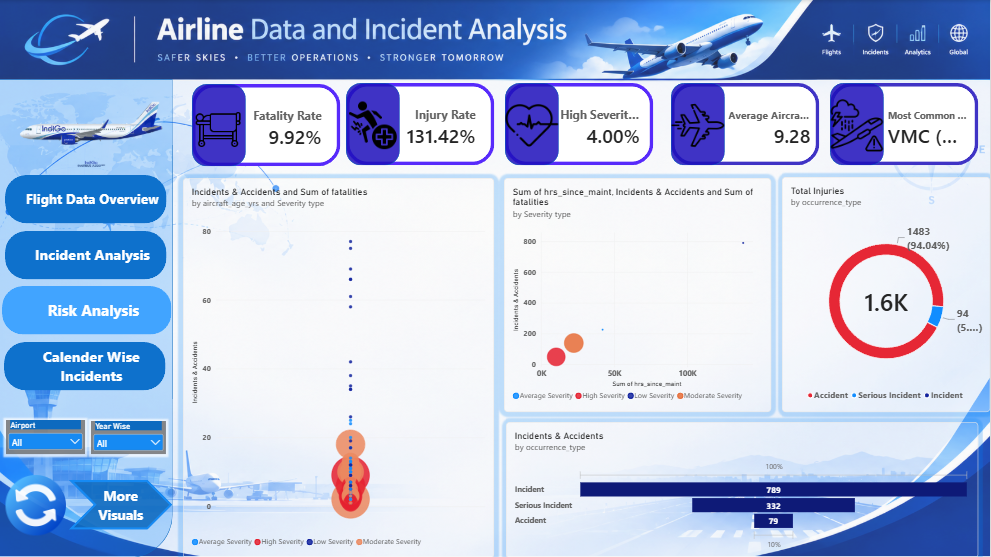

The page's visual inventory and layout, read from the dashboard file:
{"tool":"powerbi","page":{"name":"Page 4","canvas":[1920,1080],"ordinal":2},"visuals":[{"type":"cardVisual","fields":{"Data":["dgca_aviation_incidents_2010_2023.Injury Rate"]},"box":[673.6,160.9,287,159.4],"z":0,"group":"g4"},{"type":"cardVisual","fields":{"Data":["dgca_aviation_incidents_2010_2023.High Severity Rate"]},"box":[982.2,161.6,287,159.4],"z":0,"group":"g3"},{"type":"cardVisual","fields":{"Data":["dgca_aviation_incidents_2010_2023.Average Aircraft Age"]},"box":[1303.2,161.6,287,159.4],"z":0,"group":"g2"},{"type":"cardVisual","fields":{"Data":["dgca_aviation_incidents_2010_2023.Most Common Weather"]},"box":[1609.4,161.6,287,159.4],"z":0,"group":"g1"},{"type":"cardVisual","fields":{"Data":["dgca_aviation_incidents_2010_2023.Fatality Rate"]},"box":[375.1,163,287,159.4],"z":0,"group":"g5"},{"type":"shape","box":[673.6,160.9,104.2,159.4],"z":1000,"group":"g4"},{"type":"shape","box":[982.2,161.6,104.2,159.4],"z":1000,"group":"g3"},{"type":"shape","box":[1303.2,161.6,104.2,159.4],"z":1000,"group":"g2"},{"type":"shape","box":[1609.4,161.6,104.2,159.4],"z":1000,"group":"g1"},{"type":"shape","box":[375.1,163,104.2,159.4],"z":1000,"group":"g5"},{"type":"shape","box":[0,153.1,338,926.9],"z":2000},{"type":"group","id":"g1","title":"Group 1","box":[1609.4,161.6,284.9,159.4],"z":3000},{"type":"group","id":"g2","title":"Group 1","box":[1303.2,161.6,284.9,161.6],"z":4000},{"type":"group","id":"g3","title":"Group 1","box":[982.2,161.6,284.9,159.4],"z":5000},{"type":"group","id":"g4","title":"Group 1","box":[673.6,160.9,283.2,158.7],"z":8000},{"type":"tableEx","fields":{"Values":["dgca_aviation_incidents_2010_2023.operator","dgca_aviation_incidents_2010_2023.contributing_factor","dgca_aviation_incidents_2010_2023.phase_of_flight","Sum(dgca_aviation_incidents_2010_2023.injuries)","Sum(dgca_aviation_incidents_2010_2023.fatalities)"]},"box":[356.1,321.8,806.6,757.3],"z":9000},{"type":"clusteredBarChart","fields":{"Category":["dgca_aviation_incidents_2010_2023.contributing_factor"],"Y":["dgca_aviation_incidents_2010_2023.incidents & Accidents"]},"box":[1163.2,343.8,734.5,716.7],"z":10000},{"type":"group","id":"g5","title":"Group 1","box":[375.1,163,283.5,158.5],"z":11000},{"type":"image","box":[374.2,206.2,104.2,87.2],"z":12000},{"type":"image","box":[1303.2,191.3,104.2,102],"z":13000},{"type":"image","box":[982.2,191.3,104.2,102],"z":14000},{"type":"image","box":[673.9,191.3,104.2,102],"z":15000},{"type":"image","box":[1609.4,191.3,104.2,102],"z":16000},{"type":"image","box":[0,172.2,361.4,159.4],"z":17000},{"type":"actionButton","box":[12.8,446.5,312.5,93.5],"z":18000},{"type":"actionButton","box":[12.8,338,312.5,93.5],"z":19000},{"type":"actionButton","box":[12,662,312.5,93.5],"z":21000},{"type":"slicer","fields":{"Values":["dgca_aviation_incidents_2010_2023.year"]},"box":[180.7,814.3,144.6,63.8],"z":22000},{"type":"slicer","fields":{"Values":["dgca_aviation_incidents_2010_2023.airport"]},"box":[14.9,812.1,153.1,65.9],"z":23000},{"type":"image","box":[12.8,918.4,119.1,116.9],"z":25000},{"type":"shape","box":[131.8,929.1,199.8,95.7],"z":26000},{"type":"actionButton","box":[8.1,553.9,328.1,94.1],"z":27000}]}

Visuals, with their boxes in screenshot pixels (x1, y1, x2, y2), scaled from the page's 1920x1080 canvas onto the 991x557 screenshot:
cardVisual - dgca_aviation_incidents_2010_2023.Injury Rate: box=[348, 83, 496, 165]
cardVisual - dgca_aviation_incidents_2010_2023.High Severity Rate: box=[507, 83, 655, 166]
cardVisual - dgca_aviation_incidents_2010_2023.Average Aircraft Age: box=[673, 83, 821, 166]
cardVisual - dgca_aviation_incidents_2010_2023.Most Common Weather: box=[831, 83, 979, 166]
cardVisual - dgca_aviation_incidents_2010_2023.Fatality Rate: box=[194, 84, 342, 166]
shape: box=[348, 83, 401, 165]
shape: box=[507, 83, 561, 166]
shape: box=[673, 83, 726, 166]
shape: box=[831, 83, 884, 166]
shape: box=[194, 84, 247, 166]
shape: box=[0, 79, 174, 556]
"Group 1" group: box=[831, 83, 978, 166]
"Group 1" group: box=[673, 83, 820, 167]
"Group 1" group: box=[507, 83, 654, 166]
"Group 1" group: box=[348, 83, 494, 165]
tableEx - dgca_aviation_incidents_2010_2023.operator x dgca_aviation_incidents_2010_2023.contributing_factor: box=[184, 166, 600, 556]
clusteredBarChart - dgca_aviation_incidents_2010_2023.contributing_factor x dgca_aviation_incidents_2010_2023.incidents & Accidents: box=[600, 177, 979, 547]
"Group 1" group: box=[194, 84, 340, 166]
image: box=[193, 106, 247, 151]
image: box=[673, 99, 726, 151]
image: box=[507, 99, 561, 151]
image: box=[348, 99, 402, 151]
image: box=[831, 99, 884, 151]
image: box=[0, 89, 187, 171]
actionButton: box=[7, 230, 168, 278]
actionButton: box=[7, 174, 168, 223]
actionButton: box=[6, 341, 167, 390]
slicer - dgca_aviation_incidents_2010_2023.year: box=[93, 420, 168, 453]
slicer - dgca_aviation_incidents_2010_2023.airport: box=[8, 419, 87, 453]
image: box=[7, 474, 68, 534]
shape: box=[68, 479, 171, 529]
actionButton: box=[4, 286, 174, 334]
